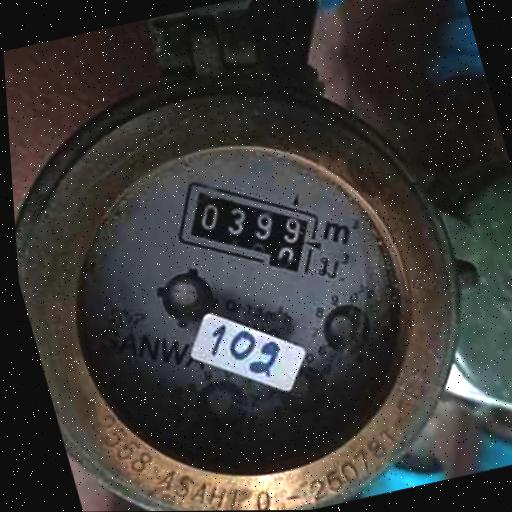0: (180, 187, 238, 246)
3: (207, 194, 261, 253)
9: (254, 207, 322, 278), (231, 200, 292, 261)
border_water_meter_number: (158, 155, 336, 301)
